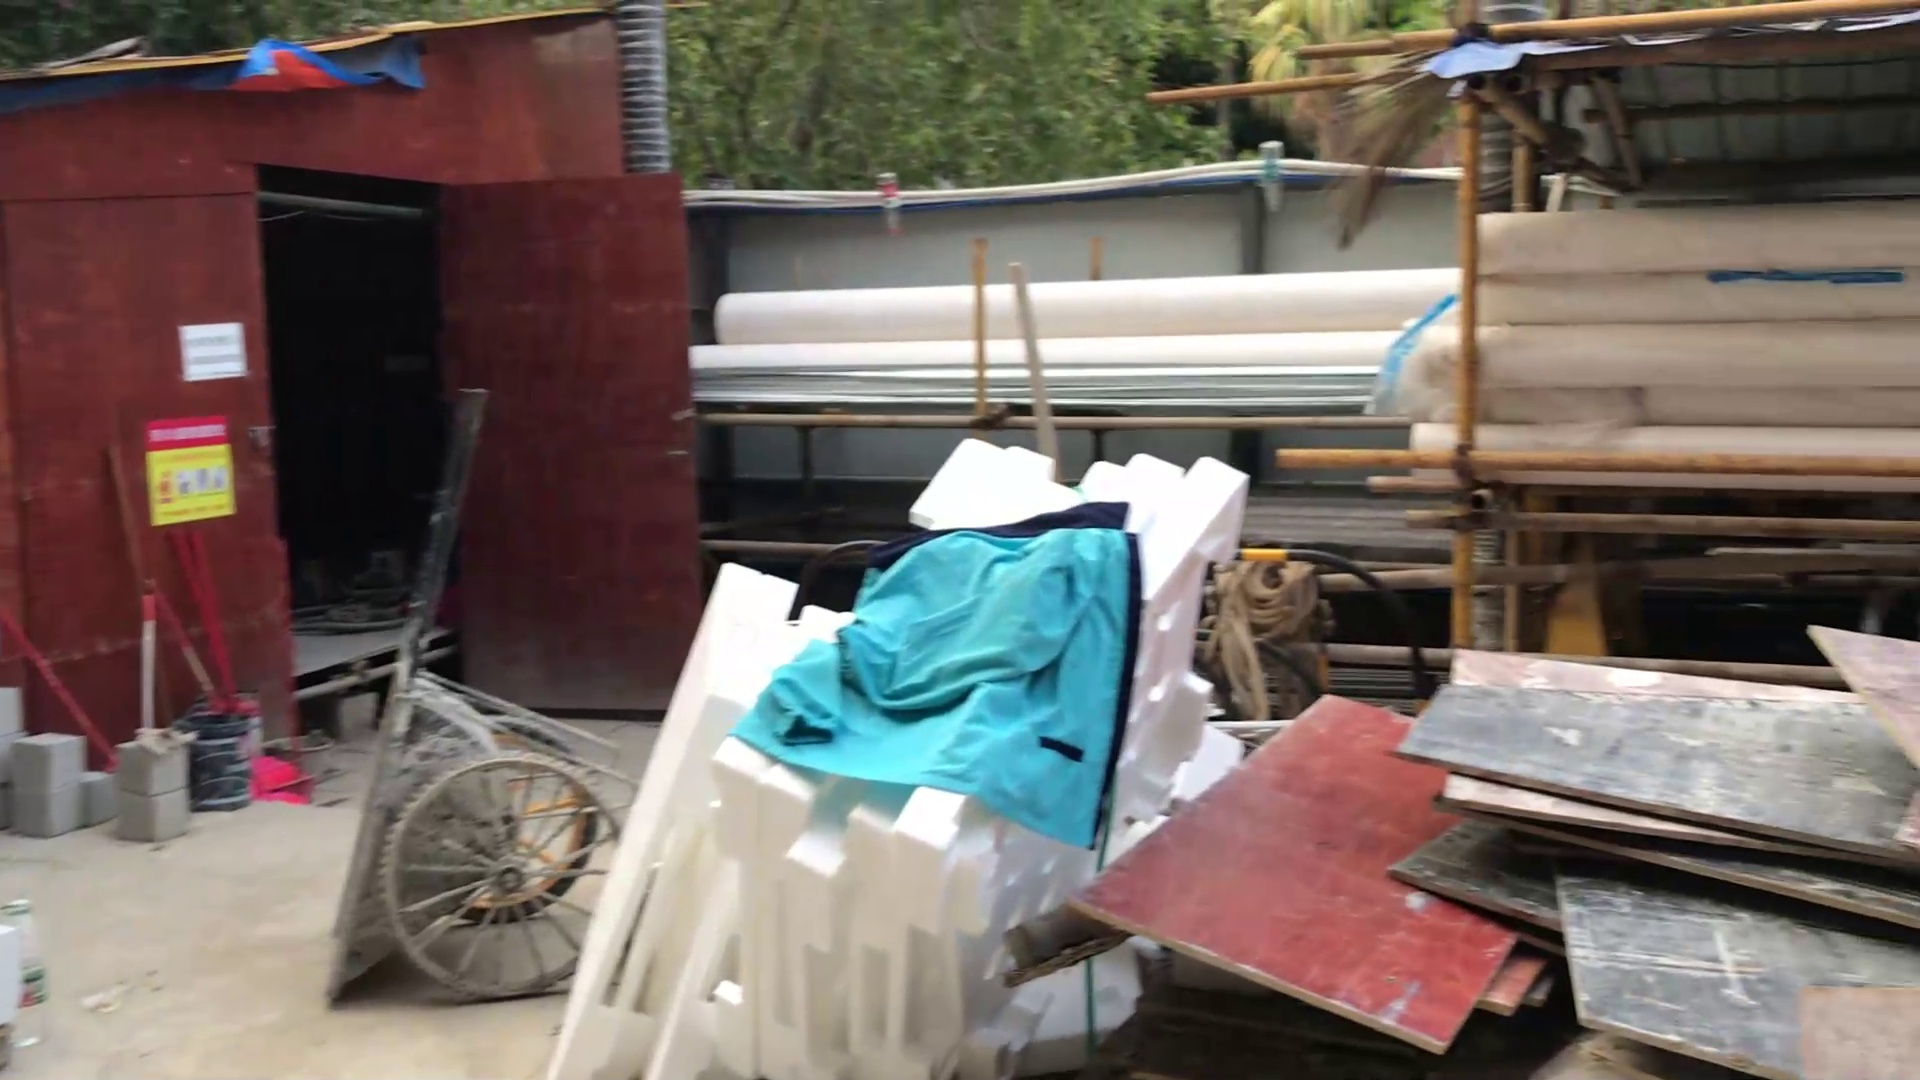handcart: (280, 336, 661, 1031)
